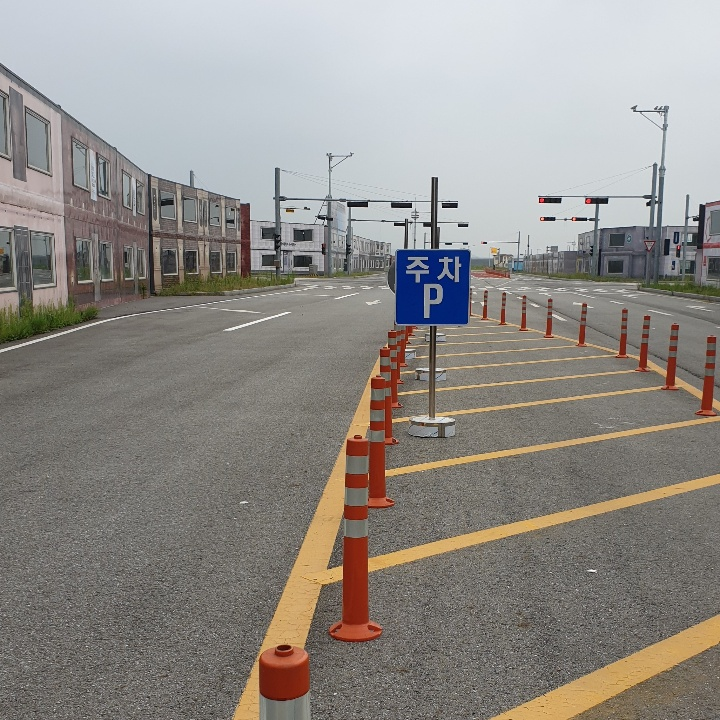parking: (420, 280, 448, 322)
